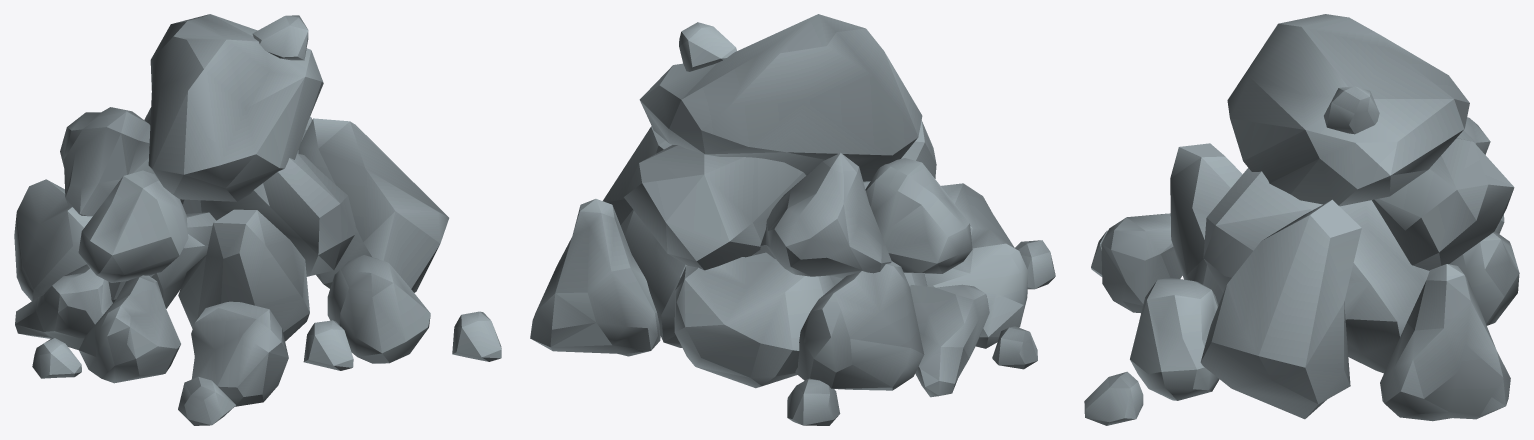
The model's file is kk_stone_chunks.glb.
3 renders of one model, left to right at view 1: azimuth 30°, elevation 25°; view 2: azimuth 150°, elevation 25°; view 3: azimuth 270°, elevation 25°, orthographic. The views are drawn at different scales.
Parts seen in each view (by area): view 1: Stone_Chunks_Large; view 2: Stone_Chunks_Large; view 3: Stone_Chunks_Large.
Boxes of the visible parts, left/top/right/bottom form: Stone_Chunks_Large: left=14, top=14, right=501, bottom=425; Stone_Chunks_Large: left=530, top=14, right=1055, bottom=425; Stone_Chunks_Large: left=1084, top=14, right=1519, bottom=425.
Bounding box in the file's own units: 0.8 × 0.5741 × 0.7173.
Materials: 1 (1 with a texture image).
